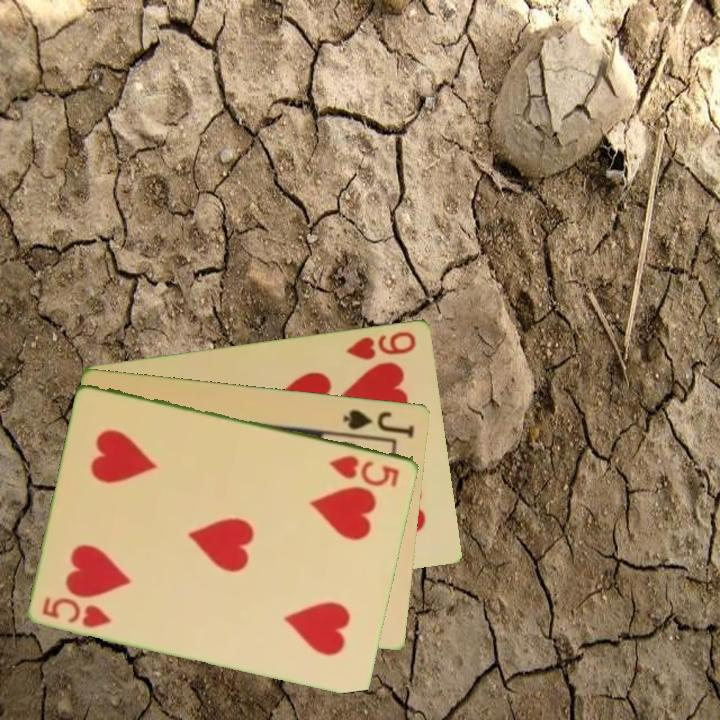5h: (326, 451, 403, 490), (39, 593, 115, 631)
9h: (343, 327, 419, 363)
Js: (340, 405, 417, 441)
